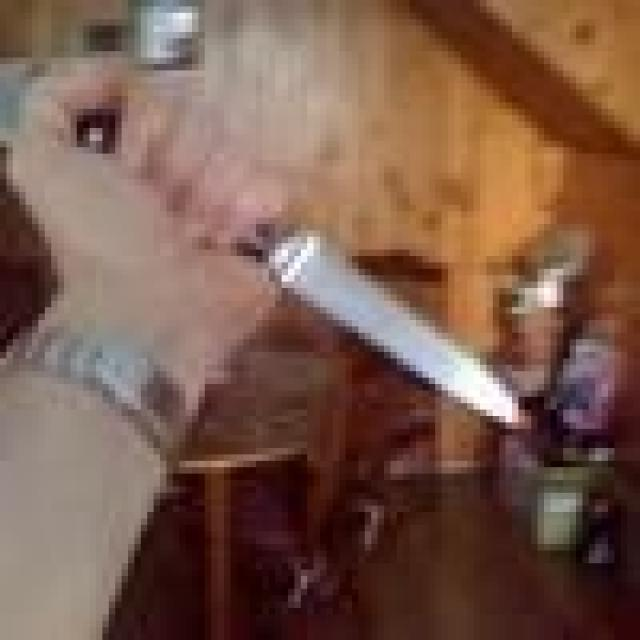senjata_tajam: (249, 228, 536, 436)
